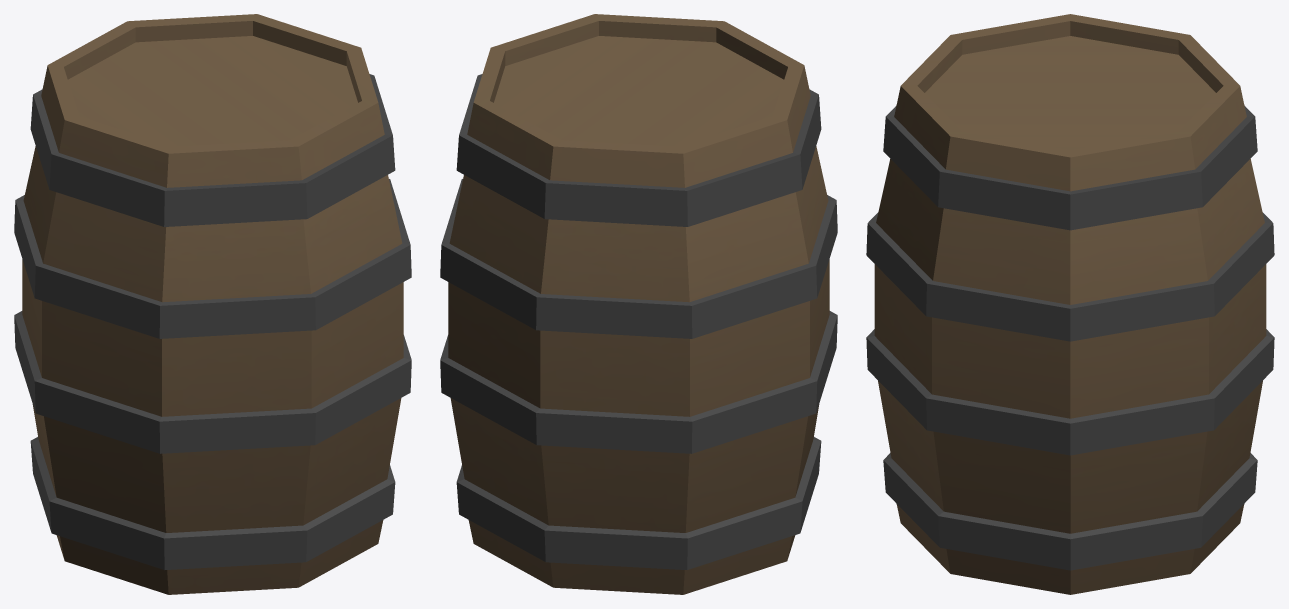
The model's file is ZLPC_Prop_D_06.FBX.
The picture shows the model from 3 angles, left to right: view 1: azimuth 30°, elevation 25°; view 2: azimuth 150°, elevation 25°; view 3: azimuth 270°, elevation 25°; orthographic projection.
Parts seen in each view (by area): view 1: ZLPC_Prop_D_06; view 2: ZLPC_Prop_D_06; view 3: ZLPC_Prop_D_06.
Part boxes in pixels (left/top/right/bottom): ZLPC_Prop_D_06: left=14, top=14, right=411, bottom=594; ZLPC_Prop_D_06: left=440, top=14, right=837, bottom=594; ZLPC_Prop_D_06: left=866, top=14, right=1274, bottom=594.
Bounding box in the file's own units: 45.6 × 53.93 × 45.6.
1 material, 1 textured.
